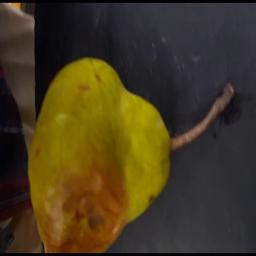Pear Rotten: (17, 69, 168, 256)
